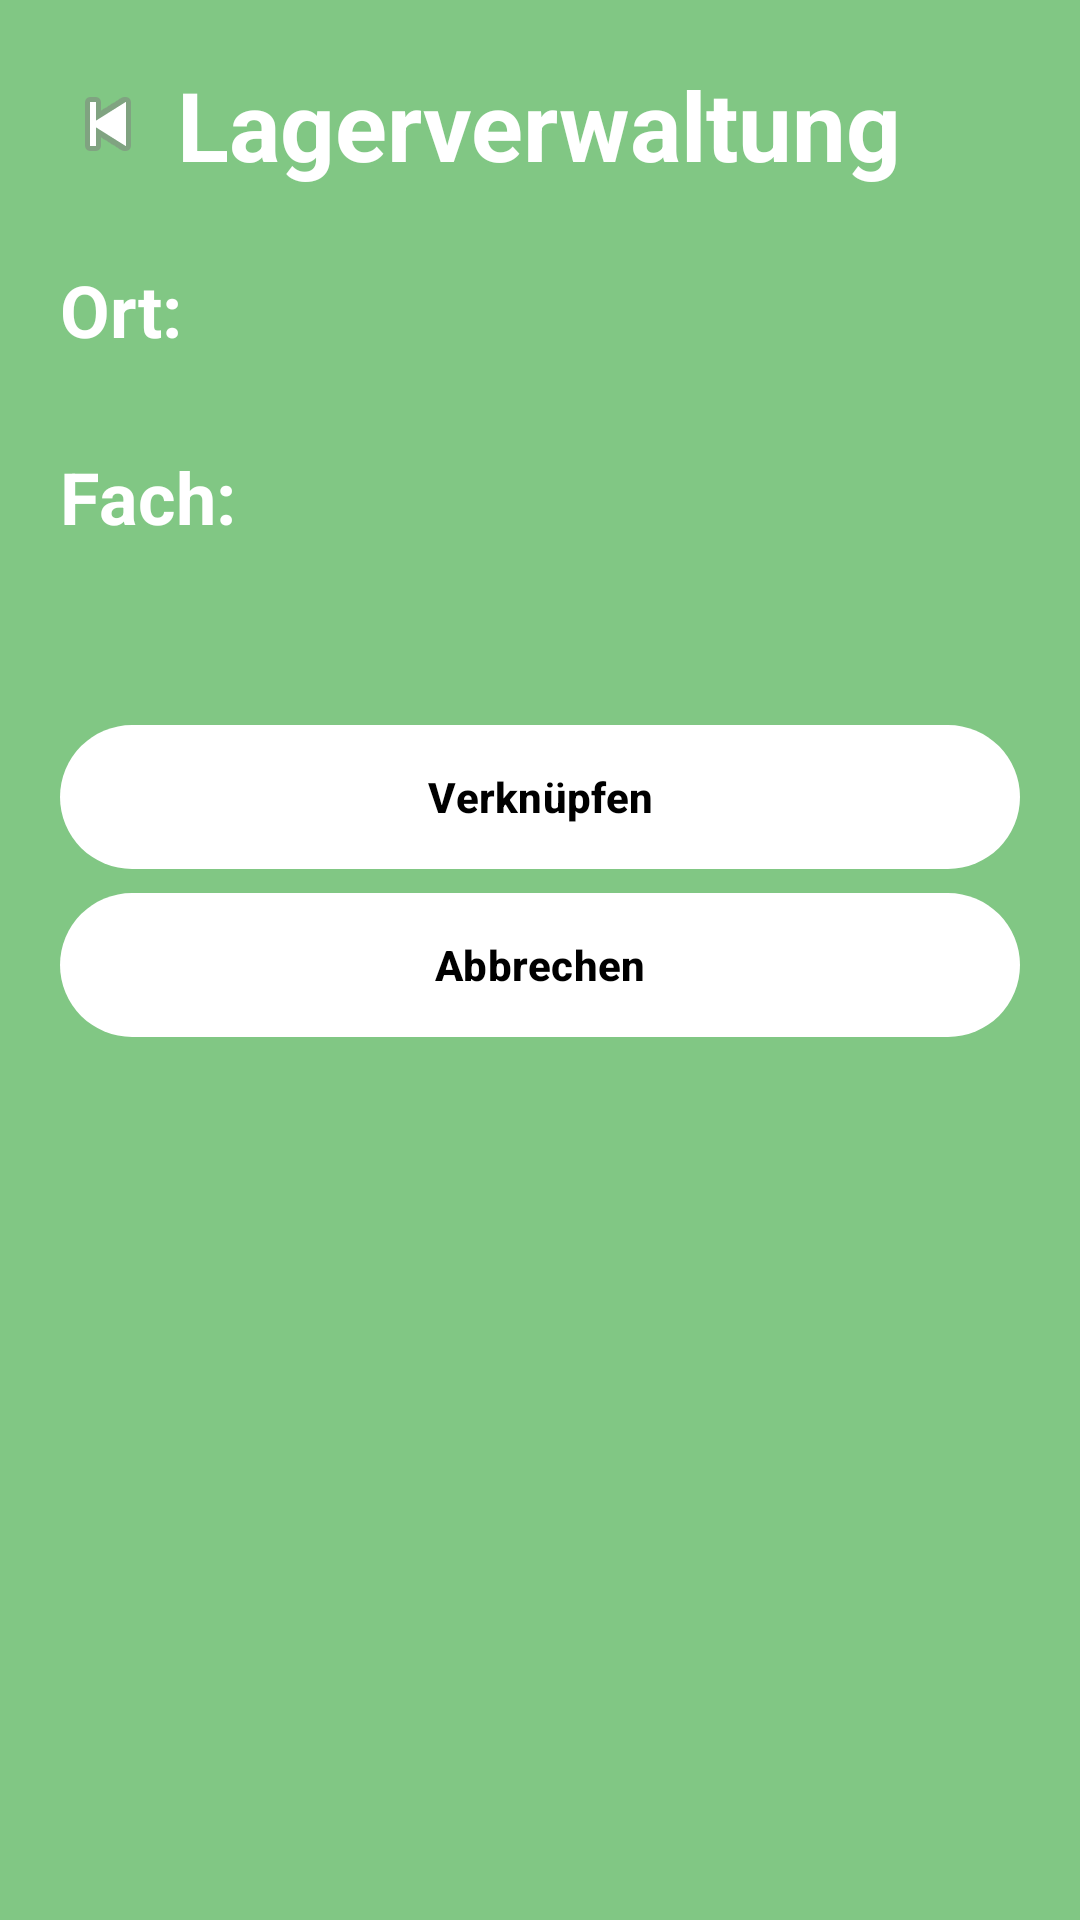

Named icons in this screenshot (1080w x 1920h) and their bounding boxes, (x1=x1, y1=y1, x2=x2, y2=y2):
Zurück: (x1=85, y1=97, x2=131, y2=151)
